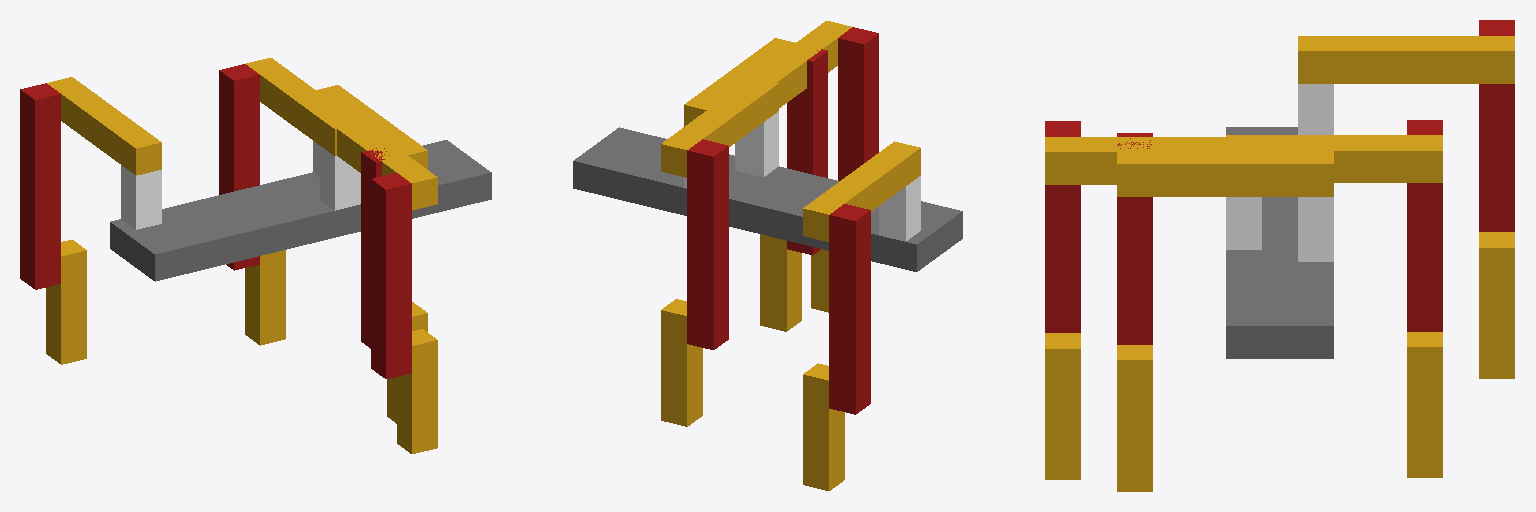
URDF robot description (v0):
<?xml version="1.0" encoding="utf-8"?>
<!-- =================================================================================== -->
<!-- |    This document was autogenerated by xacro from ../robots/v0variants/xacros/v0_4l_18.xacro | -->
<!-- |    EDITING THIS FILE BY HAND IS NOT RECOMMENDED                                 | -->
<!-- =================================================================================== -->
<robot name="v0">
  <material name="grey">
    <color rgba="0.5 0.5 0.5 1"/>
  </material>
  <material name="white">
    <color rgba="1 1 1 1"/>
  </material>
  <material name="yellow">
    <color rgba="0.91 0.7 0.14 1"/>
  </material>
  <material name="red">
    <color rgba="0.71 0.14 0.14 1"/>
  </material>
  <link name="body">
    <visual>
      <geometry>
        <box size="1.3 0.3 0.1"/>
      </geometry>
      <material name="grey"/>
      <origin rpy="0 0 0" xyz="0 0 0.7"/>
    </visual>
    <collision>
      <geometry>
        <box size="1.3 0.3 0.1"/>
      </geometry>
      <origin rpy="0 0 0" xyz="0 0 0.7"/>
    </collision>
    <inertial>
      <mass value="99.84"/>
      <inertia ixx="0.832" ixy="0.0" ixz="0.0" iyy="14.144" iyz="0.0" izz="14.8096"/>
    </inertial>
  </link>
  <link name="l1_segment_1">
    <visual>
      <geometry>
        <box size="0.1 0.1 0.2"/>
      </geometry>
      <material name="white"/>
      <origin rpy="0 0 0" xyz="0 0 0.1"/>
    </visual>
    <collision>
      <geometry>
        <box size="0.1 0.1 0.2"/>
      </geometry>
      <origin rpy="0 0 0" xyz="0 0 0.1"/>
    </collision>
    <inertial>
      <mass value="5.12"/>
      <inertia ixx="0.0213333333333" ixy="0.0" ixz="0.0" iyy="0.0213333333333" iyz="0.0" izz="0.00853333333333"/>
    </inertial>
  </link>
  <joint name="l1_base_to_joint_1" type="fixed">
    <parent link="body"/>
    <child link="l1_segment_1"/>
    <origin rpy="0 0 0" xyz="0.09500914826489981 -0.1 0.75"/>
  </joint>
  <link name="l1_segment_2_HIP">
    <visual>
      <geometry>
        <box size="0.1 0.6 0.1"/>
      </geometry>
      <material name="yellow"/>
      <origin rpy="0 0 0" xyz="0 0.25 0"/>
    </visual>
    <collision>
      <geometry>
        <box size="0.1 0.6 0.1"/>
      </geometry>
      <origin rpy="0 0 0" xyz="0 0.25 0"/>
    </collision>
    <inertial>
      <mass value="15.36"/>
      <inertia ixx="0.4736" ixy="0.0" ixz="0.0" iyy="0.0256" iyz="0.0" izz="0.4736"/>
    </inertial>
  </link>
  <joint name="l1_joint_1_to_2" type="revolute">
    <parent link="l1_segment_1"/>
    <child link="l1_segment_2_HIP"/>
    <origin rpy="0 0 0" xyz="0 0 0.25"/>
    <axis xyz="0.0 0.0 1.0"/>
    <limit effort="2048" lower="-1.2" upper="1.2" velocity="20"/>
  </joint>
  <link name="l1_segment_3_THIGH">
    <visual>
      <geometry>
        <box size="0.1 0.1 0.7"/>
      </geometry>
      <material name="red"/>
      <origin rpy="0 0 0" xyz="0 0 -0.3"/>
    </visual>
    <collision>
      <geometry>
        <box size="0.1 0.1 0.7"/>
      </geometry>
      <origin rpy="0 0 0" xyz="0 0 -0.3"/>
    </collision>
    <inertial>
      <mass value="17.92"/>
      <inertia ixx="0.746666666667" ixy="0.0" ixz="0.0" iyy="0.746666666667" iyz="0.0" izz="0.0298666666667"/>
    </inertial>
  </link>
  <joint name="l1_joint_2_to_3" type="revolute">
    <parent link="l1_segment_2_HIP"/>
    <child link="l1_segment_3_THIGH"/>
    <origin rpy="0 0 0" xyz="-0.1 0.5 0"/>
    <axis xyz="1.0 0.0 0.0"/>
    <limit effort="2048" lower="-0.2" upper="0.75" velocity="20"/>
  </joint>
  <link name="l1_segment_4_FOOT">
    <visual>
      <geometry>
        <box size="0.1 0.1 0.4"/>
      </geometry>
      <material name="yellow"/>
      <origin rpy="0 0 0" xyz="0 0 -0.2"/>
    </visual>
    <collision>
      <geometry>
        <box size="0.1 0.1 0.4"/>
      </geometry>
      <origin rpy="0 0 0" xyz="0 0 -0.2"/>
    </collision>
    <inertial>
      <mass value="10.24"/>
      <inertia ixx="0.145066666667" ixy="0.0" ixz="0.0" iyy="0.145066666667" iyz="0.0" izz="0.0170666666667"/>
    </inertial>
  </link>
  <joint name="l1_joint_3_to_4_FOOT" type="revolute">
    <parent link="l1_segment_3_THIGH"/>
    <child link="l1_segment_4_FOOT"/>
    <origin rpy="0 0 0" xyz="0.1 0 -0.55"/>
    <axis xyz="1.0 0.0 0.0"/>
    <limit effort="2048" lower="-0.2" upper="0.5" velocity="20"/>
  </joint>
  <link name="r2_segment_1">
    <visual>
      <geometry>
        <box size="0.1 0.1 0.2"/>
      </geometry>
      <material name="white"/>
      <origin rpy="0 0 0" xyz="0 0 0.1"/>
    </visual>
    <collision>
      <geometry>
        <box size="0.1 0.1 0.2"/>
      </geometry>
      <origin rpy="0 0 0" xyz="0 0 0.1"/>
    </collision>
    <inertial>
      <mass value="5.12"/>
      <inertia ixx="0.0213333333333" ixy="0.0" ixz="0.0" iyy="0.0213333333333" iyz="0.0" izz="0.00853333333333"/>
    </inertial>
  </link>
  <joint name="r2_base_to_joint_1" type="fixed">
    <parent link="body"/>
    <child link="r2_segment_1"/>
    <origin rpy="0 0 0" xyz="0.1038502272830385 -0.1 0.75"/>
  </joint>
  <link name="r2_segment_2_HIP">
    <visual>
      <geometry>
        <box size="0.1 0.6 0.1"/>
      </geometry>
      <material name="yellow"/>
      <origin rpy="0 0 0" xyz="0 -0.25 0"/>
    </visual>
    <collision>
      <geometry>
        <box size="0.1 0.6 0.1"/>
      </geometry>
      <origin rpy="0 0 0" xyz="0 -0.25 0"/>
    </collision>
    <inertial>
      <mass value="15.36"/>
      <inertia ixx="0.4736" ixy="0.0" ixz="0.0" iyy="0.0256" iyz="0.0" izz="0.4736"/>
    </inertial>
  </link>
  <joint name="r2_joint_1_to_2" type="revolute">
    <parent link="r2_segment_1"/>
    <child link="r2_segment_2_HIP"/>
    <origin rpy="0 0 0" xyz="0 0 0.25"/>
    <axis xyz="0.0 0.0 1.0"/>
    <limit effort="2048" lower="-1.2" upper="1.2" velocity="20"/>
  </joint>
  <link name="r2_segment_3_THIGH">
    <visual>
      <geometry>
        <box size="0.1 0.1 0.7"/>
      </geometry>
      <material name="red"/>
      <origin rpy="0 0 0" xyz="0 0 -0.3"/>
    </visual>
    <collision>
      <geometry>
        <box size="0.1 0.1 0.7"/>
      </geometry>
      <origin rpy="0 0 0" xyz="0 0 -0.3"/>
    </collision>
    <inertial>
      <mass value="17.92"/>
      <inertia ixx="0.746666666667" ixy="0.0" ixz="0.0" iyy="0.746666666667" iyz="0.0" izz="0.0298666666667"/>
    </inertial>
  </link>
  <joint name="r2_joint_2_to_3" type="revolute">
    <parent link="r2_segment_2_HIP"/>
    <child link="r2_segment_3_THIGH"/>
    <origin rpy="0 0 0" xyz="-0.1 -0.5 0"/>
    <axis xyz="1.0 0.0 0.0"/>
    <limit effort="2048" lower="-0.75" upper="0.2" velocity="20"/>
  </joint>
  <link name="r2_segment_4_FOOT">
    <visual>
      <geometry>
        <box size="0.1 0.1 0.4"/>
      </geometry>
      <material name="yellow"/>
      <origin rpy="0 0 0" xyz="0 0 -0.2"/>
    </visual>
    <collision>
      <geometry>
        <box size="0.1 0.1 0.4"/>
      </geometry>
      <origin rpy="0 0 0" xyz="0 0 -0.2"/>
    </collision>
    <inertial>
      <mass value="10.24"/>
      <inertia ixx="0.145066666667" ixy="0.0" ixz="0.0" iyy="0.145066666667" iyz="0.0" izz="0.0170666666667"/>
    </inertial>
  </link>
  <joint name="r2_joint_3_to_4_FOOT" type="revolute">
    <parent link="r2_segment_3_THIGH"/>
    <child link="r2_segment_4_FOOT"/>
    <origin rpy="0 0 0" xyz="0.1 0 -0.55"/>
    <axis xyz="1.0 0.0 0.0"/>
    <limit effort="2048" lower="-0.5" upper="0.2" velocity="20"/>
  </joint>
  <link name="l3_segment_1">
    <visual>
      <geometry>
        <box size="0.1 0.1 0.2"/>
      </geometry>
      <material name="white"/>
      <origin rpy="0 0 0" xyz="0 0 0.1"/>
    </visual>
    <collision>
      <geometry>
        <box size="0.1 0.1 0.2"/>
      </geometry>
      <origin rpy="0 0 0" xyz="0 0 0.1"/>
    </collision>
    <inertial>
      <mass value="5.12"/>
      <inertia ixx="0.0213333333333" ixy="0.0" ixz="0.0" iyy="0.0213333333333" iyz="0.0" izz="0.00853333333333"/>
    </inertial>
  </link>
  <joint name="l3_base_to_joint_1" type="fixed">
    <parent link="body"/>
    <child link="l3_segment_1"/>
    <origin rpy="0 0 0" xyz="-0.5571899597094941 0.1 0.75"/>
  </joint>
  <link name="l3_segment_2_HIP">
    <visual>
      <geometry>
        <box size="0.1 0.6 0.1"/>
      </geometry>
      <material name="yellow"/>
      <origin rpy="0 0 0" xyz="0 0.25 0"/>
    </visual>
    <collision>
      <geometry>
        <box size="0.1 0.6 0.1"/>
      </geometry>
      <origin rpy="0 0 0" xyz="0 0.25 0"/>
    </collision>
    <inertial>
      <mass value="15.36"/>
      <inertia ixx="0.4736" ixy="0.0" ixz="0.0" iyy="0.0256" iyz="0.0" izz="0.4736"/>
    </inertial>
  </link>
  <joint name="l3_joint_1_to_2" type="revolute">
    <parent link="l3_segment_1"/>
    <child link="l3_segment_2_HIP"/>
    <origin rpy="0 0 0" xyz="0 0 0.25"/>
    <axis xyz="0.0 0.0 1.0"/>
    <limit effort="2048" lower="-1.2" upper="1.2" velocity="20"/>
  </joint>
  <link name="l3_segment_3_THIGH">
    <visual>
      <geometry>
        <box size="0.1 0.1 0.7"/>
      </geometry>
      <material name="red"/>
      <origin rpy="0 0 0" xyz="0 0 -0.3"/>
    </visual>
    <collision>
      <geometry>
        <box size="0.1 0.1 0.7"/>
      </geometry>
      <origin rpy="0 0 0" xyz="0 0 -0.3"/>
    </collision>
    <inertial>
      <mass value="17.92"/>
      <inertia ixx="0.746666666667" ixy="0.0" ixz="0.0" iyy="0.746666666667" iyz="0.0" izz="0.0298666666667"/>
    </inertial>
  </link>
  <joint name="l3_joint_2_to_3" type="revolute">
    <parent link="l3_segment_2_HIP"/>
    <child link="l3_segment_3_THIGH"/>
    <origin rpy="0 0 0" xyz="-0.1 0.5 0"/>
    <axis xyz="1.0 0.0 0.0"/>
    <limit effort="2048" lower="-0.2" upper="0.75" velocity="20"/>
  </joint>
  <link name="l3_segment_4_FOOT">
    <visual>
      <geometry>
        <box size="0.1 0.1 0.4"/>
      </geometry>
      <material name="yellow"/>
      <origin rpy="0 0 0" xyz="0 0 -0.2"/>
    </visual>
    <collision>
      <geometry>
        <box size="0.1 0.1 0.4"/>
      </geometry>
      <origin rpy="0 0 0" xyz="0 0 -0.2"/>
    </collision>
    <inertial>
      <mass value="10.24"/>
      <inertia ixx="0.145066666667" ixy="0.0" ixz="0.0" iyy="0.145066666667" iyz="0.0" izz="0.0170666666667"/>
    </inertial>
  </link>
  <joint name="l3_joint_3_to_4_FOOT" type="revolute">
    <parent link="l3_segment_3_THIGH"/>
    <child link="l3_segment_4_FOOT"/>
    <origin rpy="0 0 0" xyz="0.1 0 -0.55"/>
    <axis xyz="1.0 0.0 0.0"/>
    <limit effort="2048" lower="-0.2" upper="0.5" velocity="20"/>
  </joint>
  <link name="r4_segment_1">
    <visual>
      <geometry>
        <box size="0.1 0.1 0.2"/>
      </geometry>
      <material name="white"/>
      <origin rpy="0 0 0" xyz="0 0 0.1"/>
    </visual>
    <collision>
      <geometry>
        <box size="0.1 0.1 0.2"/>
      </geometry>
      <origin rpy="0 0 0" xyz="0 0 0.1"/>
    </collision>
    <inertial>
      <mass value="5.12"/>
      <inertia ixx="0.0213333333333" ixy="0.0" ixz="0.0" iyy="0.0213333333333" iyz="0.0" izz="0.00853333333333"/>
    </inertial>
  </link>
  <joint name="r4_base_to_joint_1" type="fixed">
    <parent link="body"/>
    <child link="r4_segment_1"/>
    <origin rpy="0 0 0" xyz="0.18187312244334608 0.1 0.75"/>
  </joint>
  <link name="r4_segment_2_HIP">
    <visual>
      <geometry>
        <box size="0.1 0.6 0.1"/>
      </geometry>
      <material name="yellow"/>
      <origin rpy="0 0 0" xyz="0 -0.25 0"/>
    </visual>
    <collision>
      <geometry>
        <box size="0.1 0.6 0.1"/>
      </geometry>
      <origin rpy="0 0 0" xyz="0 -0.25 0"/>
    </collision>
    <inertial>
      <mass value="15.36"/>
      <inertia ixx="0.4736" ixy="0.0" ixz="0.0" iyy="0.0256" iyz="0.0" izz="0.4736"/>
    </inertial>
  </link>
  <joint name="r4_joint_1_to_2" type="revolute">
    <parent link="r4_segment_1"/>
    <child link="r4_segment_2_HIP"/>
    <origin rpy="0 0 0" xyz="0 0 0.25"/>
    <axis xyz="0.0 0.0 1.0"/>
    <limit effort="2048" lower="-1.2" upper="1.2" velocity="20"/>
  </joint>
  <link name="r4_segment_3_THIGH">
    <visual>
      <geometry>
        <box size="0.1 0.1 0.7"/>
      </geometry>
      <material name="red"/>
      <origin rpy="0 0 0" xyz="0 0 -0.3"/>
    </visual>
    <collision>
      <geometry>
        <box size="0.1 0.1 0.7"/>
      </geometry>
      <origin rpy="0 0 0" xyz="0 0 -0.3"/>
    </collision>
    <inertial>
      <mass value="17.92"/>
      <inertia ixx="0.746666666667" ixy="0.0" ixz="0.0" iyy="0.746666666667" iyz="0.0" izz="0.0298666666667"/>
    </inertial>
  </link>
  <joint name="r4_joint_2_to_3" type="revolute">
    <parent link="r4_segment_2_HIP"/>
    <child link="r4_segment_3_THIGH"/>
    <origin rpy="0 0 0" xyz="-0.1 -0.5 0"/>
    <axis xyz="1.0 0.0 0.0"/>
    <limit effort="2048" lower="-0.75" upper="0.2" velocity="20"/>
  </joint>
  <link name="r4_segment_4_FOOT">
    <visual>
      <geometry>
        <box size="0.1 0.1 0.4"/>
      </geometry>
      <material name="yellow"/>
      <origin rpy="0 0 0" xyz="0 0 -0.2"/>
    </visual>
    <collision>
      <geometry>
        <box size="0.1 0.1 0.4"/>
      </geometry>
      <origin rpy="0 0 0" xyz="0 0 -0.2"/>
    </collision>
    <inertial>
      <mass value="10.24"/>
      <inertia ixx="0.145066666667" ixy="0.0" ixz="0.0" iyy="0.145066666667" iyz="0.0" izz="0.0170666666667"/>
    </inertial>
  </link>
  <joint name="r4_joint_3_to_4_FOOT" type="revolute">
    <parent link="r4_segment_3_THIGH"/>
    <child link="r4_segment_4_FOOT"/>
    <origin rpy="0 0 0" xyz="0.1 0 -0.55"/>
    <axis xyz="1.0 0.0 0.0"/>
    <limit effort="2048" lower="-0.5" upper="0.2" velocity="20"/>
  </joint>
</robot>

--- Render facts (derived) ---
3 views of the same robot in one strip: view 1: azimuth 30°, elevation 25°; view 2: azimuth 150°, elevation 25°; view 3: azimuth 270°, elevation 25° (orthographic).
Model v0 with 17 links and 16 joints (12 revolute, 4 fixed), rooted at body, posed all joints at 0.
Links seen in each view (by area): view 1: body, l3_segment_3_THIGH, r2_segment_3_THIGH, l1_segment_3_THIGH, l3_segment_2_HIP, l3_segment_4_FOOT, r2_segment_4_FOOT, l1_segment_2_HIP, l1_segment_4_FOOT, r2_segment_2_HIP, r4_segment_3_THIGH, l3_segment_1 (+4 smaller); view 2: body, l1_segment_3_THIGH, l3_segment_3_THIGH, r2_segment_3_THIGH, l3_segment_2_HIP, l1_segment_2_HIP, l1_segment_4_FOOT, l3_segment_4_FOOT, r4_segment_3_THIGH, r4_segment_4_FOOT, r2_segment_2_HIP, r4_segment_2_HIP (+3 smaller); view 3: body, l3_segment_2_HIP, r4_segment_2_HIP, l1_segment_2_HIP, l1_segment_3_THIGH, r2_segment_3_THIGH, l3_segment_3_THIGH, r4_segment_3_THIGH, r2_segment_2_HIP, r2_segment_4_FOOT, l3_segment_4_FOOT, r4_segment_4_FOOT (+4 smaller).
Link boxes in pixels (box(x1,y1,x2,y2)): body: box(110, 140, 491, 281); l3_segment_3_THIGH: box(20, 83, 60, 289); r2_segment_3_THIGH: box(371, 173, 411, 378); l1_segment_3_THIGH: box(219, 64, 259, 270); l3_segment_2_HIP: box(47, 77, 161, 175); l3_segment_4_FOOT: box(46, 240, 86, 364); r2_segment_4_FOOT: box(397, 329, 437, 453); l1_segment_2_HIP: box(246, 58, 356, 155); l1_segment_4_FOOT: box(245, 250, 285, 345); r2_segment_2_HIP: box(328, 112, 437, 210); r4_segment_3_THIGH: box(361, 148, 389, 348); l3_segment_1: box(121, 165, 161, 229); body: box(573, 127, 962, 271); l1_segment_3_THIGH: box(687, 139, 728, 349); l3_segment_3_THIGH: box(829, 204, 870, 414); r2_segment_3_THIGH: box(838, 27, 878, 180); l3_segment_2_HIP: box(803, 141, 920, 241); l1_segment_2_HIP: box(661, 77, 778, 177); l1_segment_4_FOOT: box(661, 299, 702, 426); l3_segment_4_FOOT: box(803, 363, 844, 490); r4_segment_3_THIGH: box(787, 49, 827, 254); r4_segment_4_FOOT: box(760, 234, 801, 331); r2_segment_2_HIP: box(735, 21, 851, 107); r4_segment_2_HIP: box(684, 38, 800, 126); body: box(1226, 127, 1333, 358); l3_segment_2_HIP: box(1298, 36, 1514, 83); r4_segment_2_HIP: box(1117, 149, 1333, 196); l1_segment_2_HIP: box(1226, 135, 1442, 182); l1_segment_3_THIGH: box(1407, 120, 1442, 331); r2_segment_3_THIGH: box(1045, 121, 1080, 332); l3_segment_3_THIGH: box(1479, 20, 1514, 231); r4_segment_3_THIGH: box(1117, 133, 1152, 344); r2_segment_2_HIP: box(1045, 137, 1261, 184); r2_segment_4_FOOT: box(1045, 333, 1080, 479); l3_segment_4_FOOT: box(1479, 232, 1514, 378); r4_segment_4_FOOT: box(1117, 345, 1152, 491).
Bounding box of the posed robot: 1.36 × 1.3 × 1 m (x, y, z).
Geometry: primitives only (box / cylinder / sphere), no mesh files.